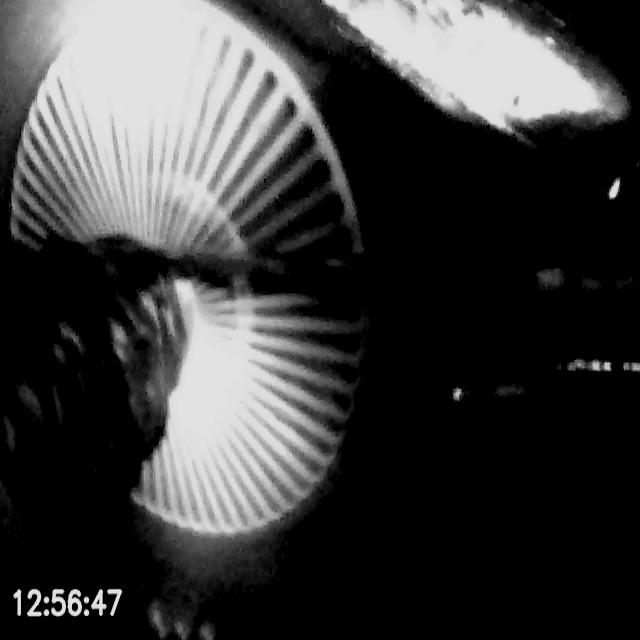white-dots: (534, 267, 640, 301)
